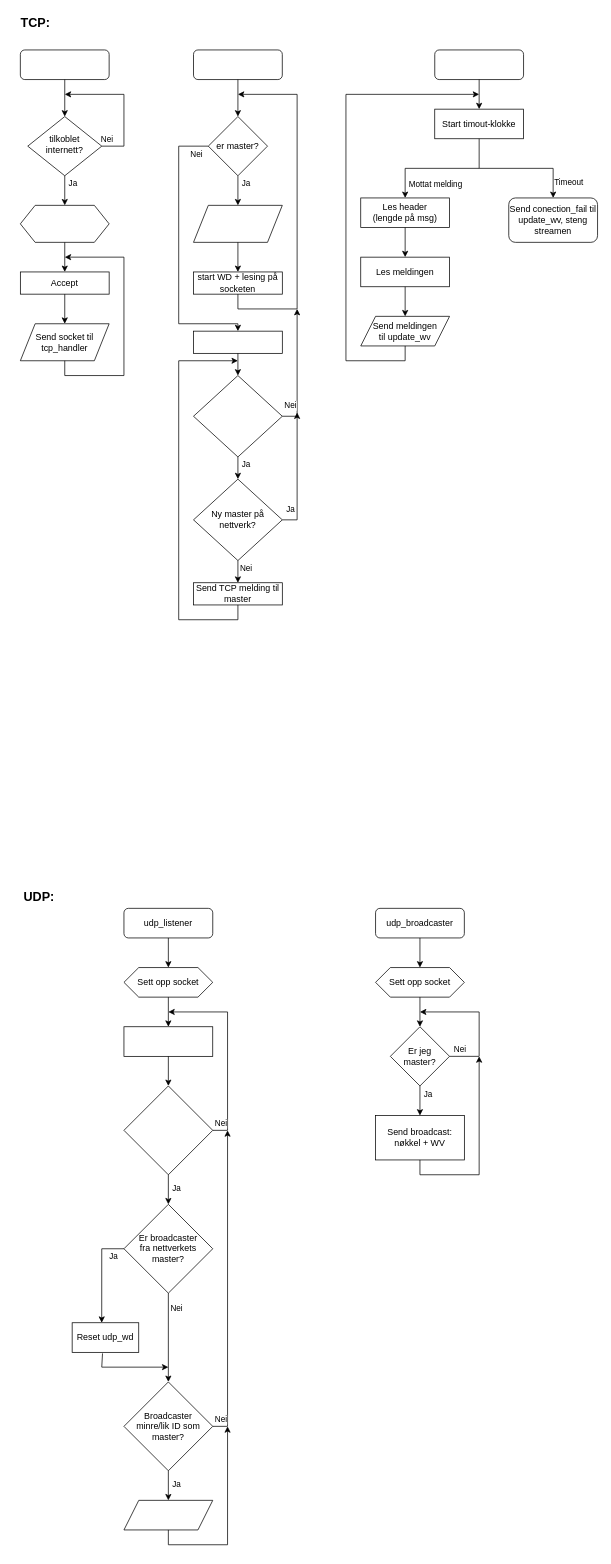
The diagram is 611 pixels wide and 1564 high, and some of its shapes have lost their labels. The shapes that lost their labels are listed below. From the top down, each one's box as (x1, y1, x2, y2) in pixels, then its label:
(20, 49, 109, 80): listener_task
(193, 49, 282, 80): tcp_handler
(434, 49, 524, 80): WD + lesing
(20, 205, 109, 242): Sett opp en tcp listener
(193, 205, 282, 242): Motta socket fra listener_task
(193, 330, 282, 353): Koble til master
(193, 375, 282, 457): Er slave && har master tilkobling?
(123, 1026, 213, 1056): Motta msg på socket
(123, 1085, 213, 1175): match nøkkel: Er broadcasten fra 'oss'?
(123, 1500, 213, 1530): Send mottat WV til update_wv
